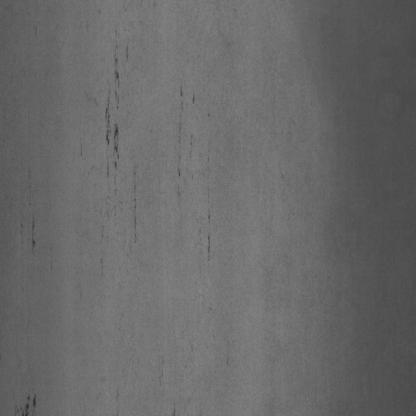inclusion: (172, 75, 214, 260), (18, 172, 42, 264), (19, 385, 41, 413)
oil_spot: (98, 106, 124, 181), (108, 45, 125, 103)
